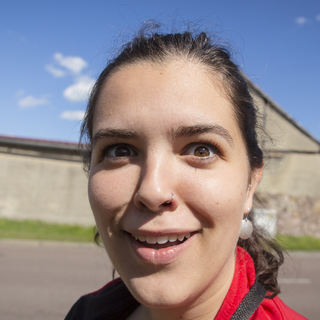eye: (173, 136, 227, 165), (95, 139, 142, 167)
